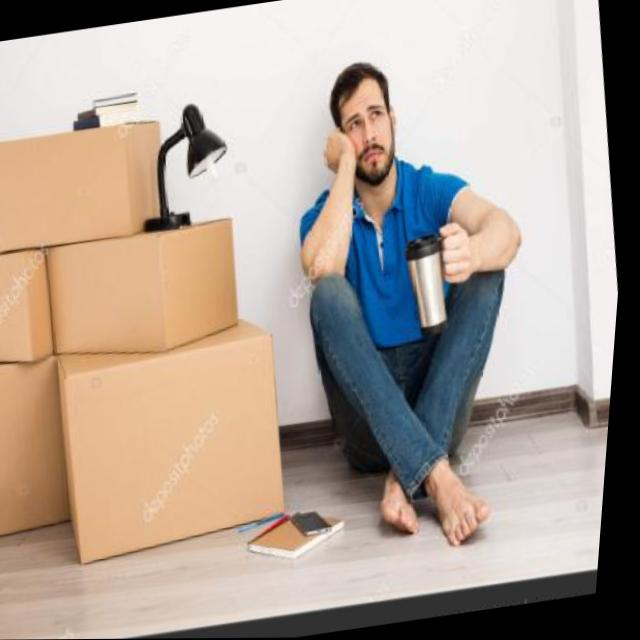box: (35, 315, 319, 583), (45, 207, 276, 374), (0, 100, 200, 271), (0, 333, 101, 572), (0, 211, 73, 386)
